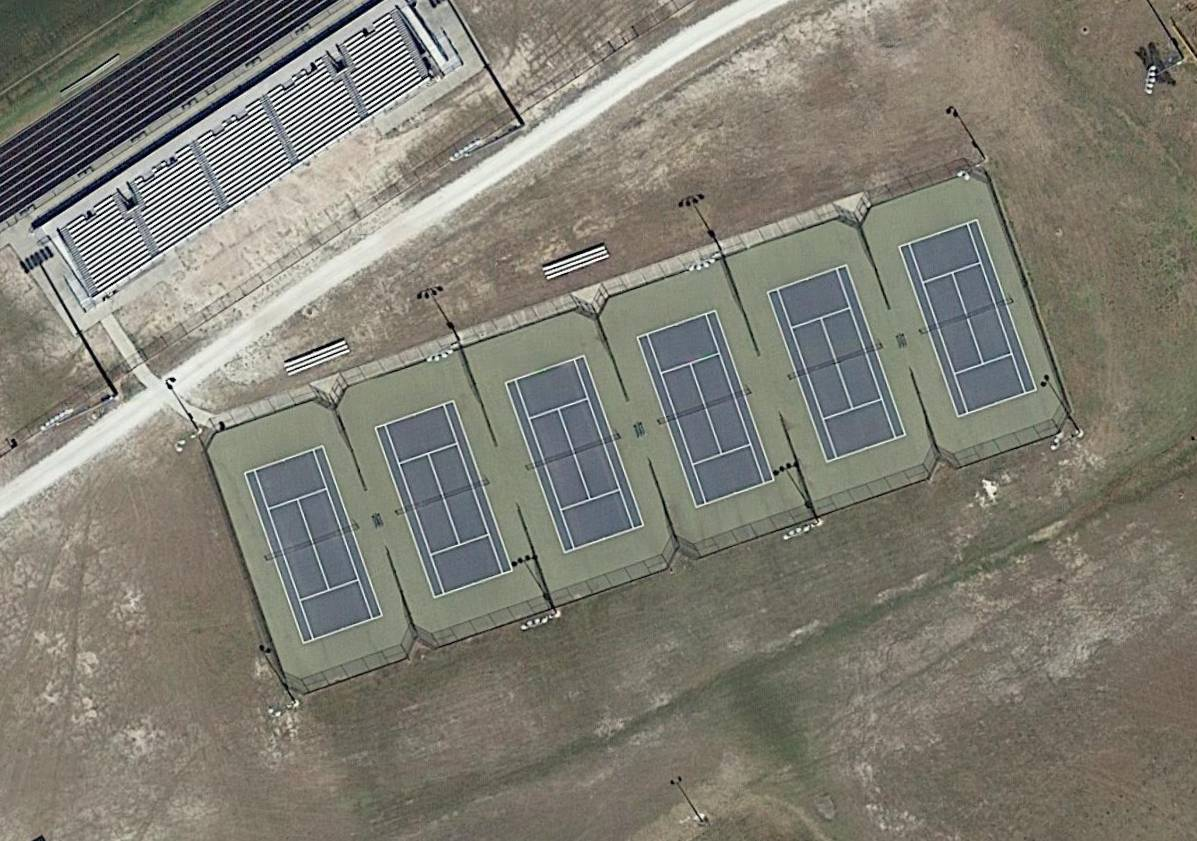tennis court: (243, 443, 385, 644), (767, 263, 908, 465), (504, 353, 645, 555), (636, 308, 776, 510), (898, 217, 1038, 418), (375, 400, 514, 599)
